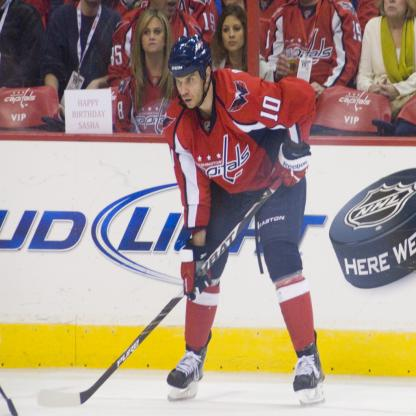Helmet: (169, 31, 213, 104)
